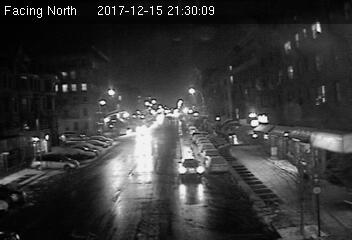car: (178, 157, 205, 179), (204, 156, 228, 173)
